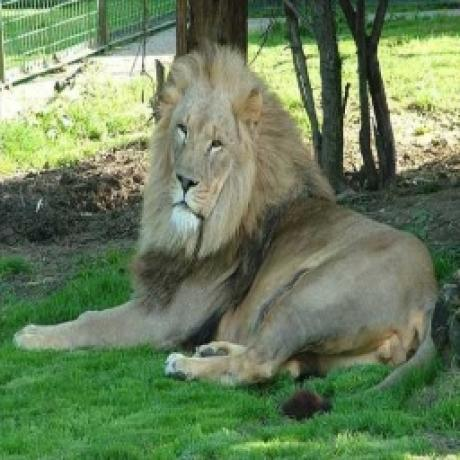Lion: (14, 43, 444, 422)
